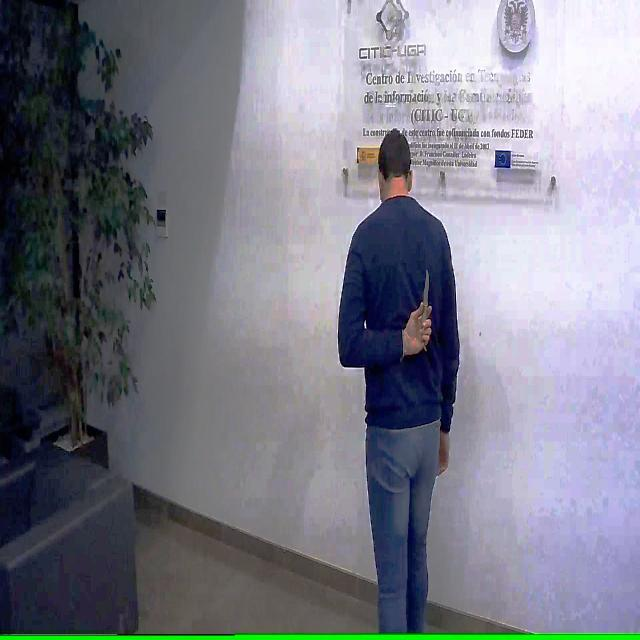Knife: (416, 260, 437, 338)
